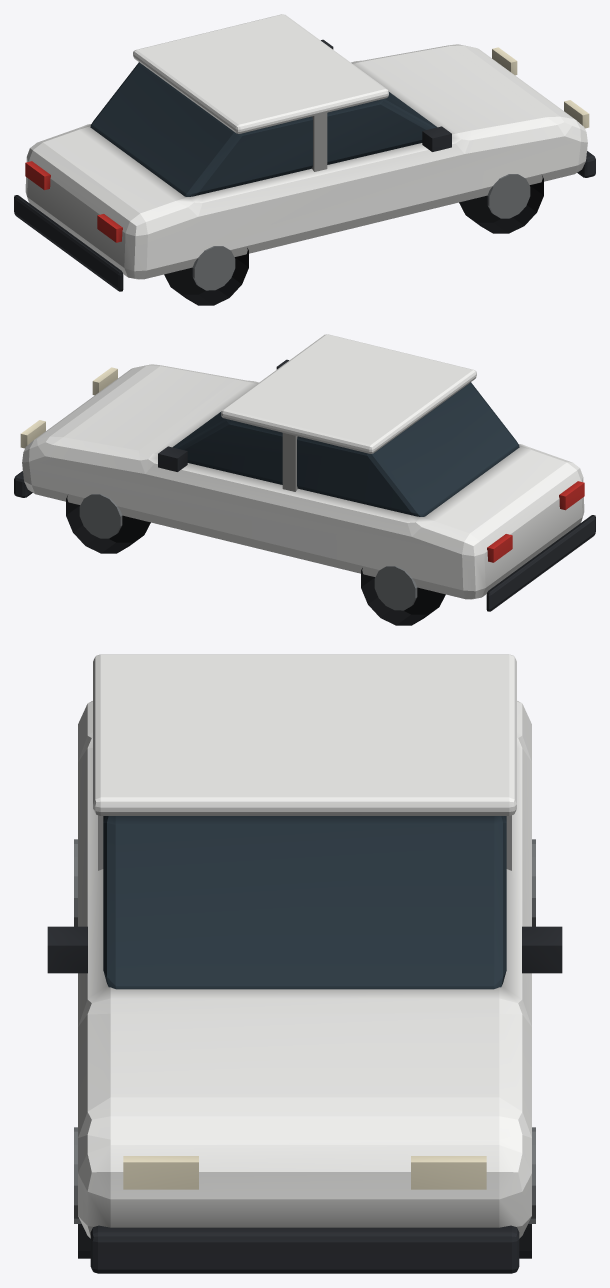
File: sedan-C0IxP7fL.glb
3 renders of one model, top to bottom at view 1: azimuth 30°, elevation 25°; view 2: azimuth 150°, elevation 25°; view 3: azimuth 270°, elevation 25°, orthographic. The views are drawn at different scales.
Parts seen in each view (by area): view 1: carroceria, vidrio, pieza, pieza.004, rueda.004, rueda, rueda.005, rueda.001, pieza.001, pieza.005, pieza.010, pieza.008 (+2 smaller); view 2: carroceria, vidrio, pieza, pieza.004, rueda.006, rueda.002, rueda.007, rueda.003, pieza.002, pieza.006, pieza.008, pieza.010 (+2 smaller); view 3: carroceria, vidrio, pieza, pieza.003, pieza.007, pieza.009, pieza.005, pieza.006.
Part boxes in pixels (left/top/right/bottom): carroceria: left=25, top=44, right=587, bottom=279; vidrio: left=90, top=62, right=437, bottom=196; pieza: left=133, top=14, right=388, bottom=133; pieza.004: left=14, top=195, right=123, bottom=291; rueda.004: left=459, top=175, right=543, bottom=233; rueda: left=164, top=248, right=248, bottom=305; rueda.005: left=487, top=174, right=530, bottom=218; rueda.001: left=192, top=246, right=235, bottom=290; pieza.001: left=312, top=113, right=327, bottom=171; pieza.005: left=422, top=126, right=451, bottom=151; pieza.010: left=25, top=161, right=50, bottom=190; pieza.008: left=97, top=214, right=122, bottom=242; carroceria: left=22, top=364, right=584, bottom=599; vidrio: left=172, top=382, right=519, bottom=516; pieza: left=221, top=334, right=476, bottom=453; pieza.004: left=486, top=515, right=595, bottom=611; rueda.006: left=66, top=495, right=150, bottom=553; rueda.002: left=361, top=568, right=445, bottom=625; rueda.007: left=79, top=494, right=122, bottom=538; rueda.003: left=374, top=566, right=417, bottom=610; pieza.002: left=282, top=433, right=297, bottom=491; pieza.006: left=158, top=446, right=187, bottom=471; pieza.008: left=559, top=481, right=584, bottom=510; pieza.010: left=487, top=534, right=512, bottom=562; carroceria: left=78, top=701, right=531, bottom=1238; vidrio: left=103, top=816, right=506, bottom=989; pieza: left=93, top=654, right=516, bottom=815; pieza.003: left=90, top=1225, right=519, bottom=1273; pieza.007: left=123, top=1156, right=198, bottom=1189; pieza.009: left=411, top=1156, right=486, bottom=1189; pieza.005: left=47, top=926, right=87, bottom=973; pieza.006: left=522, top=926, right=562, bottom=973.
Bounding box in the file's own units: 4.37 × 1.48 × 2.04.
